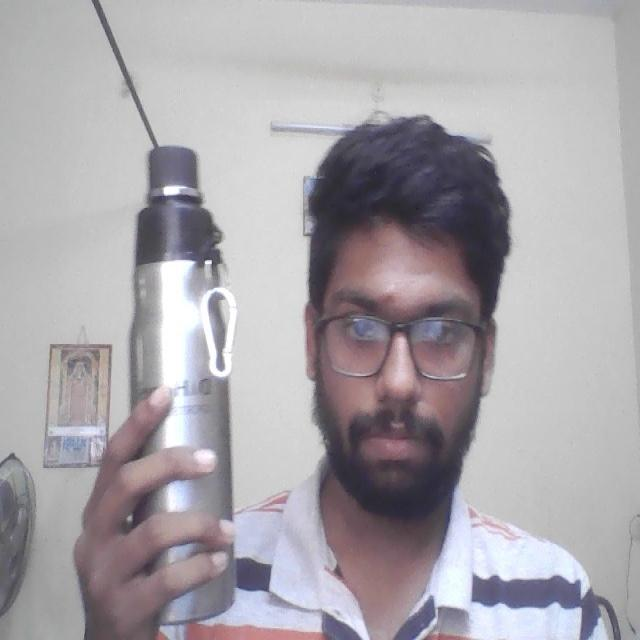Drinking: (122, 154, 224, 635)
